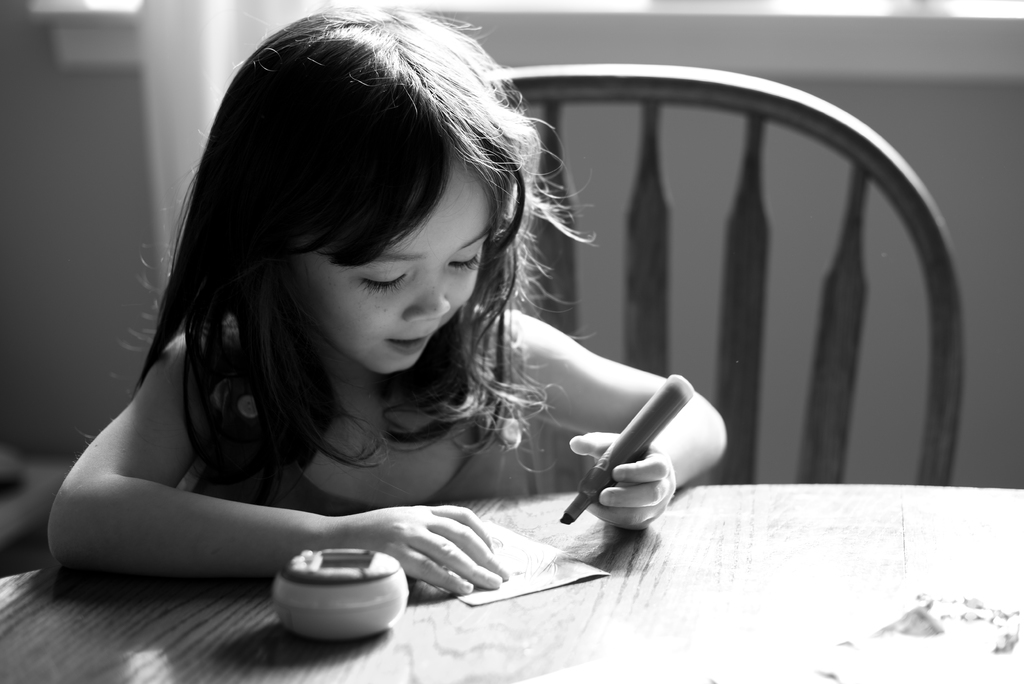Human_hand: (334, 503, 511, 596), (557, 417, 687, 543)
